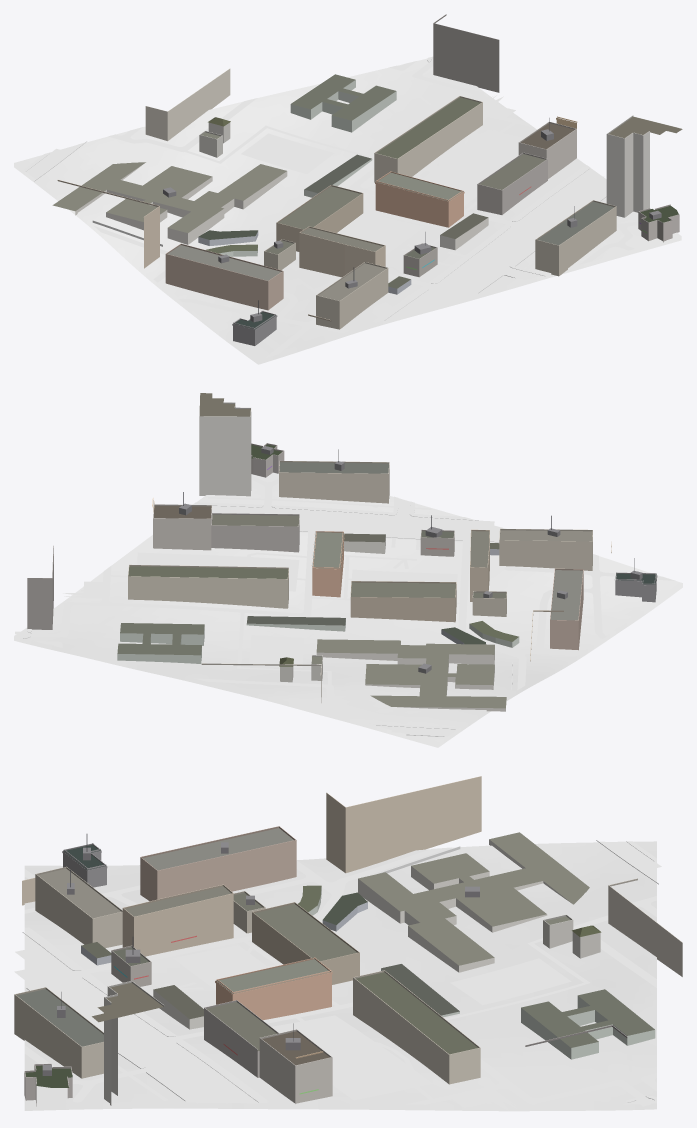
3 renders of one model, top to bottom at view 1: azimuth 30°, elevation 25°; view 2: azimuth 150°, elevation 25°; view 3: azimuth 270°, elevation 25°, orthographic. The views are drawn at different scales.
Parts seen in each view (by area): view 1: t0_-3_-13; view 2: t0_-3_-13; view 3: t0_-3_-13.
Boxes of the visible parts, x1,y1,x2,y2 form: t0_-3_-13: [14, 14, 682, 364]; t0_-3_-13: [14, 393, 682, 747]; t0_-3_-13: [14, 776, 682, 1111].
Size of the model in its own units: 289 by 61.1 by 271.
